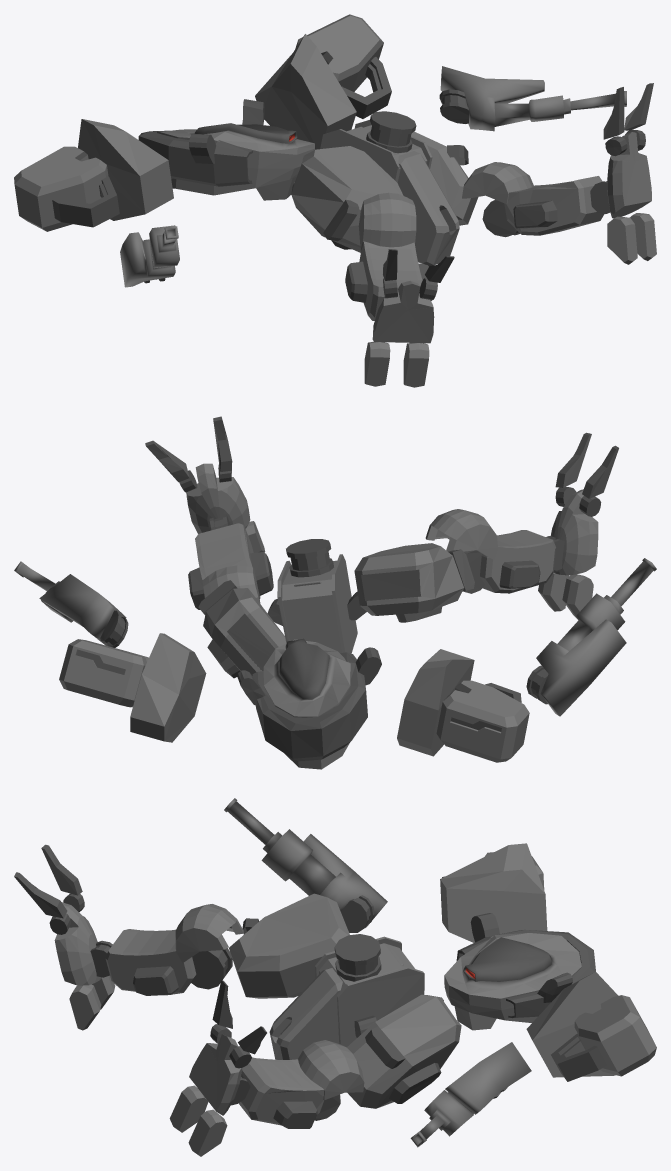
File: broken_mech.fbx
3 renders of one model, top to bottom at view 1: azimuth 30°, elevation 25°; view 2: azimuth 150°, elevation 25°; view 3: azimuth 270°, elevation 25°, orthographic. The views are drawn at different scales.
Visible parts, largest first — view 1: broken_mech; view 2: broken_mech; view 3: broken_mech.
Boxes of the visible parts, bbox=[...] form: broken_mech: bbox=[14, 14, 656, 387]; broken_mech: bbox=[14, 416, 656, 769]; broken_mech: bbox=[14, 798, 656, 1156].
Bounding box in the file's own units: 37.76 × 11.68 × 37.57.
3 materials, 3 textured.
